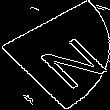N_NW: (12, 22, 98, 88)
